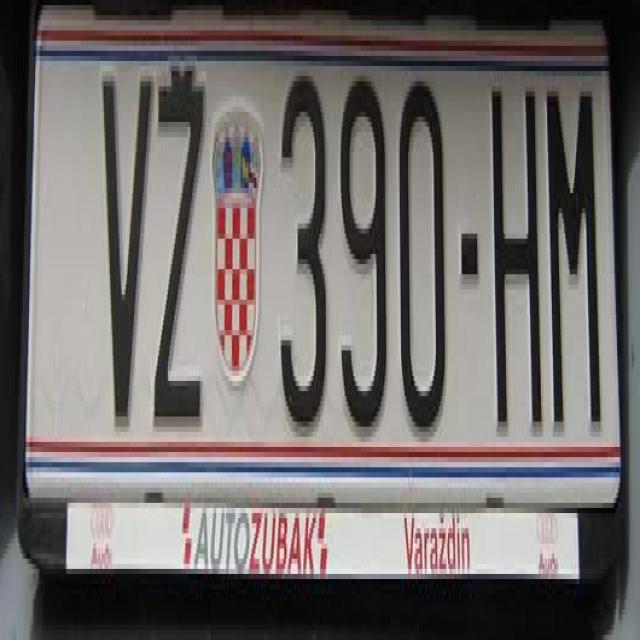Autre: (25, 1, 623, 561)
